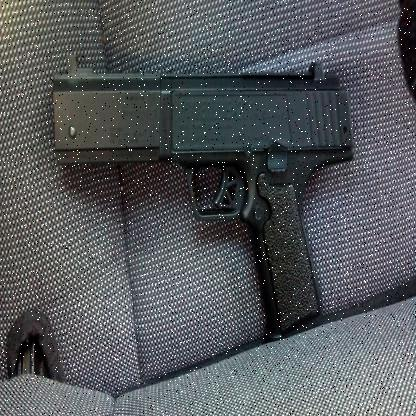pistol: (53, 46, 352, 344)
